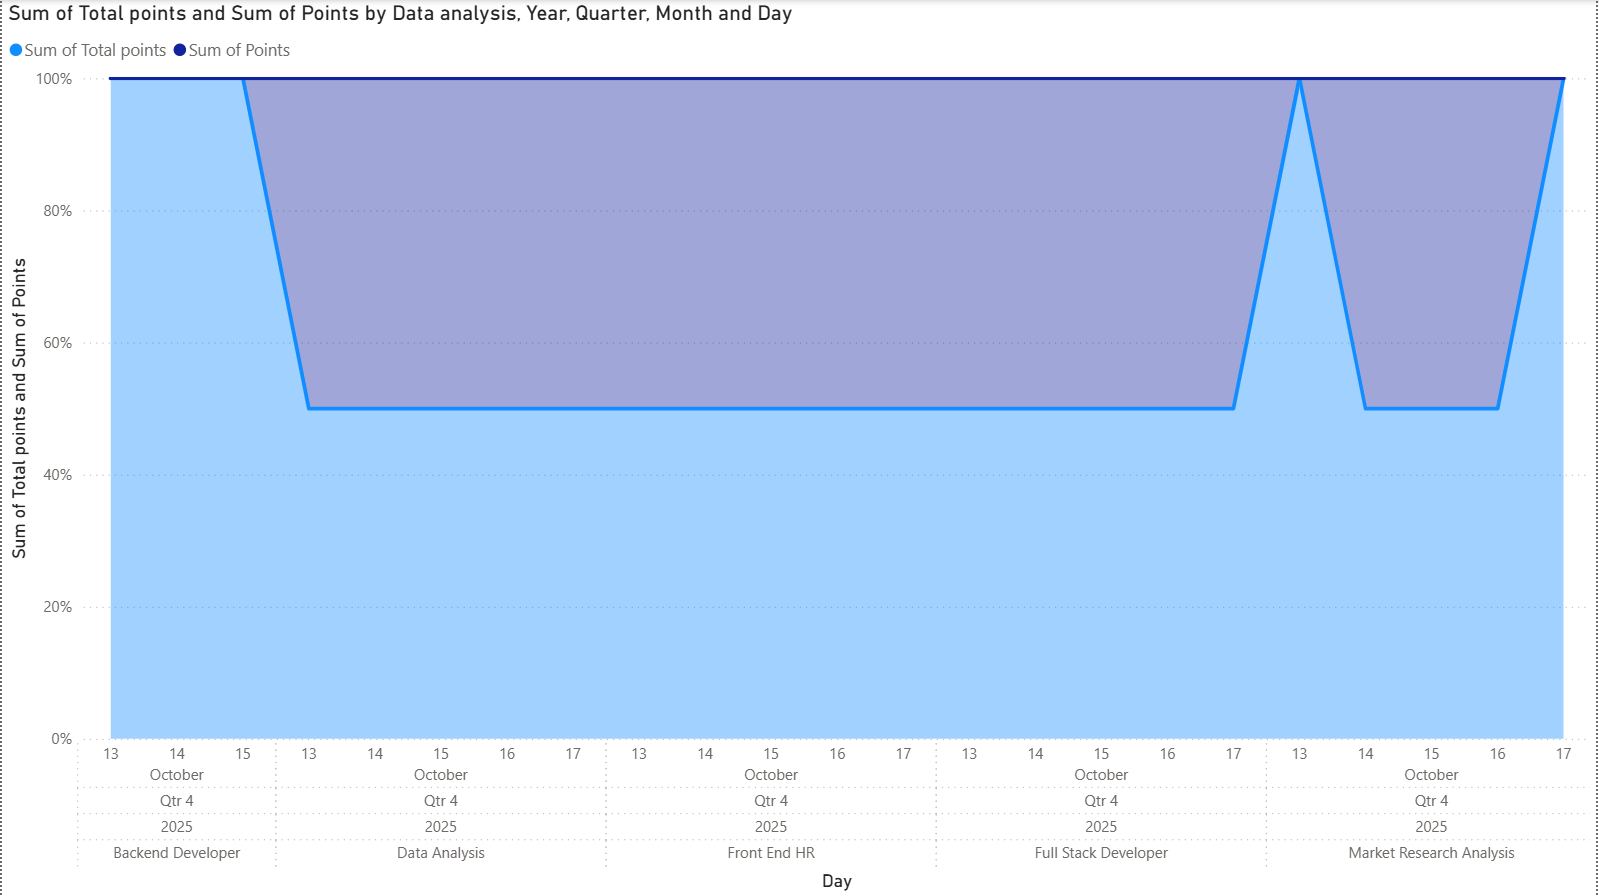

The page's visual inventory and layout, read from the dashboard file:
{"tool":"powerbi","page":{"name":"Page 5","canvas":[1280,720],"ordinal":4},"visuals":[{"type":"hundredPercentStackedAreaChart","fields":{"Y":["Sum(Sheet1.Total points)","Sum(Sheet1.Points)"],"Category":["Sheet1.Data analysis","Sheet1.Date.Variation.Date Hierarchy.Year","Sheet1.Date.Variation.Date Hierarchy.Quarter","Sheet1.Date.Variation.Date Hierarchy.Month","Sheet1.Date.Variation.Date Hierarchy.Day"]},"box":[0,0,1280.1,720.5],"z":0}]}

Visuals, with their boxes in screenshot pixels (x1, y1, x2, y2), scaled from the page's 1280x720 canvas onto the 1599x896 screenshot:
hundredPercentStackedAreaChart - Sum(Sheet1.Total points) x Sum(Sheet1.Points): bbox=[0, 0, 1598, 895]
